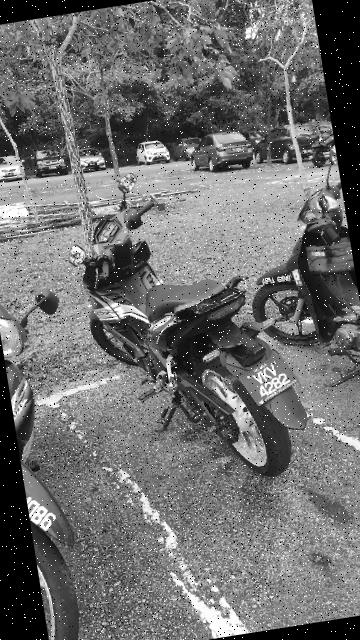License_Plate: (232, 348, 314, 415)
motorcycle: (44, 141, 323, 509)
